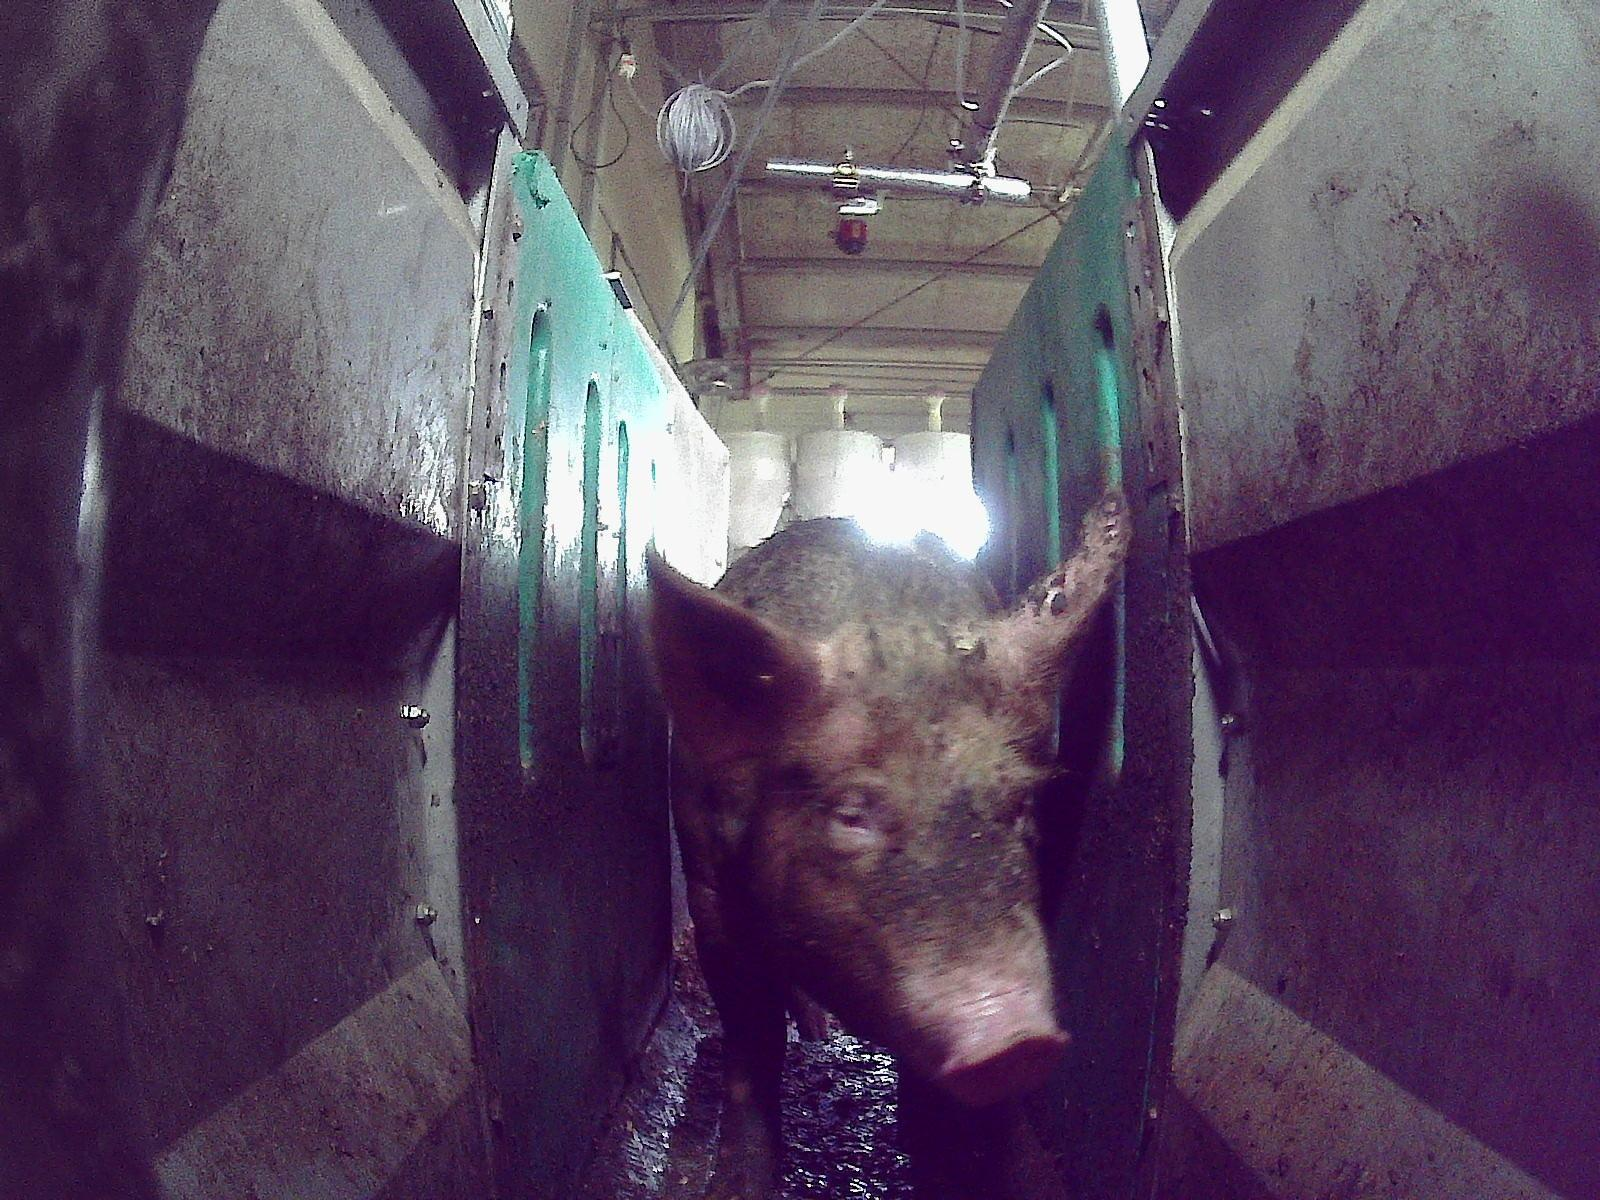Face: (757, 655, 1070, 1109)
